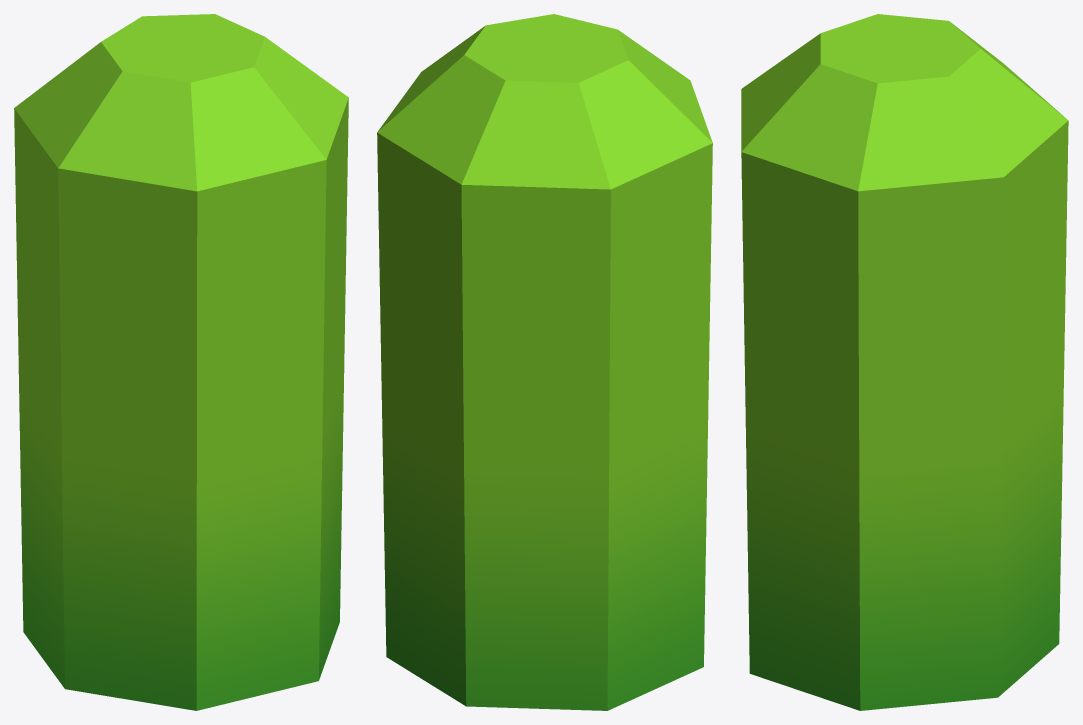
Rendered from Crystal015.fbx.
The picture shows the model from 3 angles, left to right: view 1: azimuth 30°, elevation 25°; view 2: azimuth 150°, elevation 25°; view 3: azimuth 270°, elevation 25°; orthographic projection.
Visible parts, largest first — view 1: Crystal015; view 2: Crystal015; view 3: Crystal015.
Boxes of the visible parts, bbox=[...] form: Crystal015: bbox=[14, 14, 348, 710]; Crystal015: bbox=[377, 14, 712, 710]; Crystal015: bbox=[741, 14, 1068, 710].
Size of the model in its own units: 49.69 by 97.23 by 48.45.
